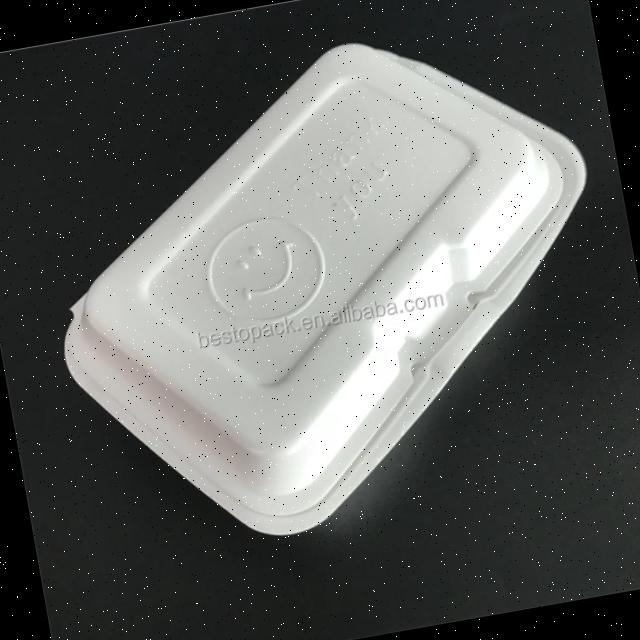styrofoam: (16, 3, 640, 568)
